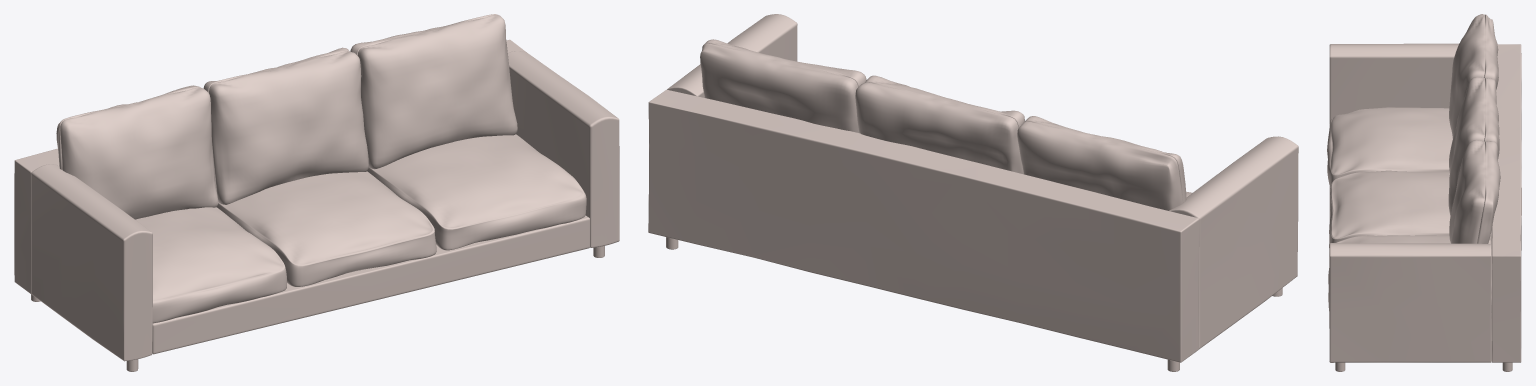
Rendered from couch.gltf.
3 views of the same model, side by side, from view 1: azimuth 30°, elevation 25°; view 2: azimuth 150°, elevation 25°; view 3: azimuth 270°, elevation 25° (orthographic). The views are drawn at different scales.
Parts seen in each view (by area): view 1: Plane.004_Plane.011, Plane.003_Plane.010, Plane.001_Plane.003, Plane, Plane.002; view 2: Plane.002, Plane.004_Plane.011, Plane.001_Plane.003; view 3: Plane.001_Plane.003, Plane.003_Plane.010, Plane.004_Plane.011, Plane.002, Circle.
Part boxes in pixels (x1,y1,x2,y2): Plane.004_Plane.011: (56,14,517,219); Plane.003_Plane.010: (135,134,586,323); Plane.001_Plane.003: (31,51,619,361); Plane: (152,215,589,354); Plane.002: (14,39,525,293); Plane.002: (648,89,1199,362); Plane.004_Plane.011: (700,39,1186,210); Plane.001_Plane.003: (667,14,1298,349); Plane.001_Plane.003: (1329,43,1491,362); Plane.003_Plane.010: (1327,107,1492,312); Plane.004_Plane.011: (1448,14,1500,243); Plane.002: (1491,44,1521,362); Circle: (1335,362,1512,371).
Size of the model in its own units: 2.11 by 0.7594 by 0.8191.
